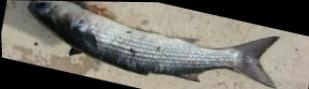fish: (24, 0, 279, 88)
